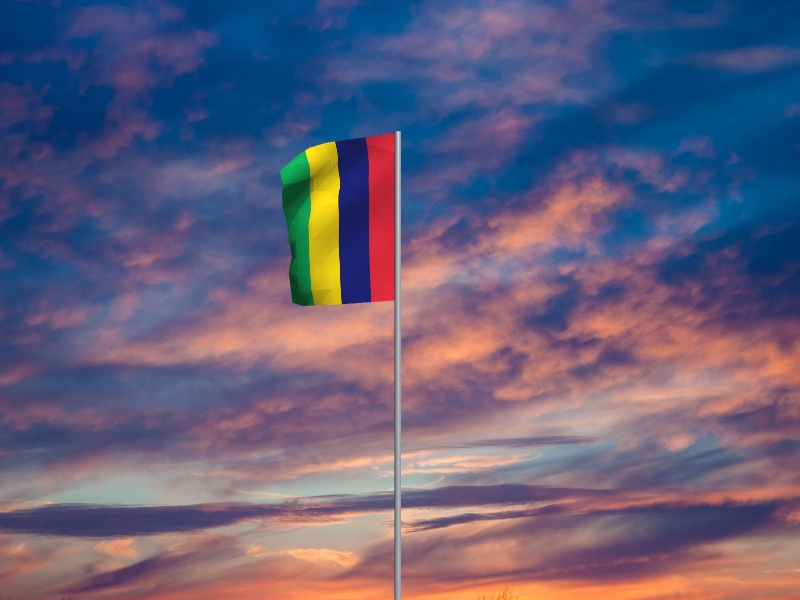mu: (279, 133, 395, 308)
